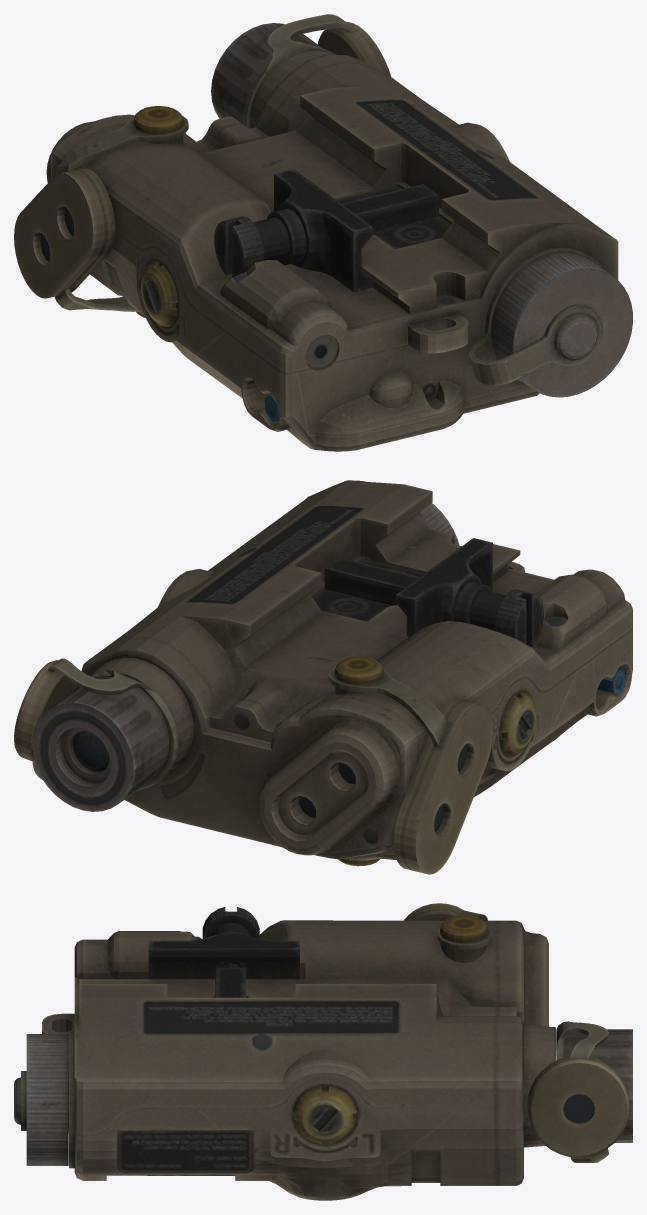
3 renders of one model, top to bottom at view 1: azimuth 30°, elevation 25°; view 2: azimuth 150°, elevation 25°; view 3: azimuth 270°, elevation 25°, orthographic. The views are drawn at different scales.
Parts seen in each view (by area): view 1: TW_544909bb4bdc2d6f028b4577_PZ_Import; view 2: TW_544909bb4bdc2d6f028b4577_PZ_Import; view 3: TW_544909bb4bdc2d6f028b4577_PZ_Import.
Part boxes in pixels (x1,y1,x2,y2): TW_544909bb4bdc2d6f028b4577_PZ_Import: (14, 14, 632, 451); TW_544909bb4bdc2d6f028b4577_PZ_Import: (14, 480, 632, 874); TW_544909bb4bdc2d6f028b4577_PZ_Import: (14, 903, 632, 1200).
Bounding box in the file's own units: 0.045 × 0.0673 × 0.0228.
Materials: 1 (1 with a texture image).
